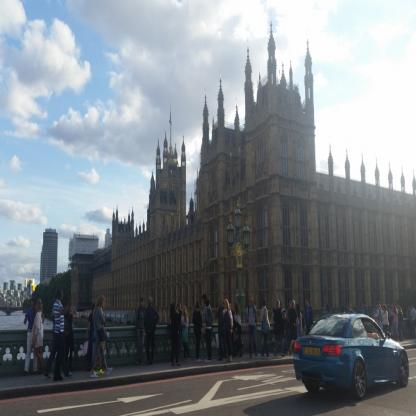Car: (296, 311, 410, 408)
